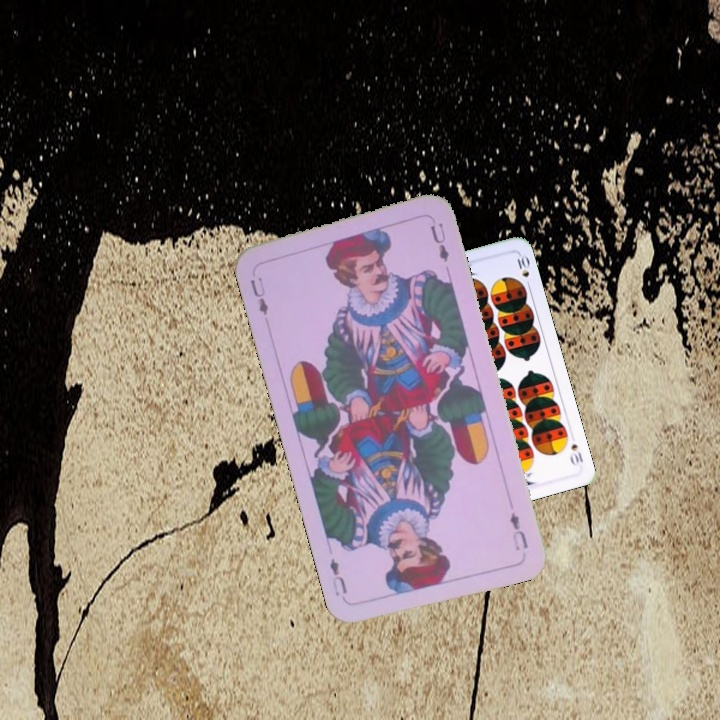EU: (505, 508, 531, 553), (246, 273, 271, 318)
S10: (567, 440, 586, 466)
